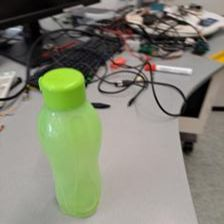bottle: (32, 67, 103, 220)
